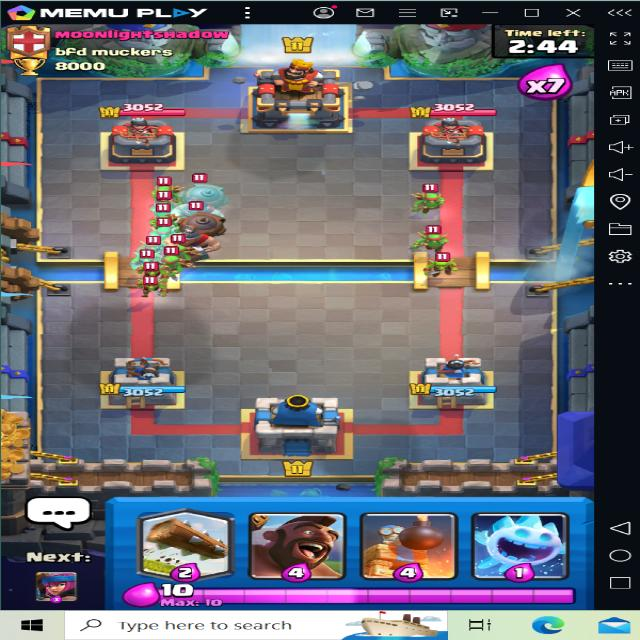goblin: (422, 257, 464, 280), (141, 272, 176, 294), (130, 264, 166, 285)
mighty-miner: (160, 204, 238, 272)
spear-goblin: (417, 223, 455, 250), (414, 185, 451, 212), (145, 176, 181, 199), (155, 250, 191, 272)
